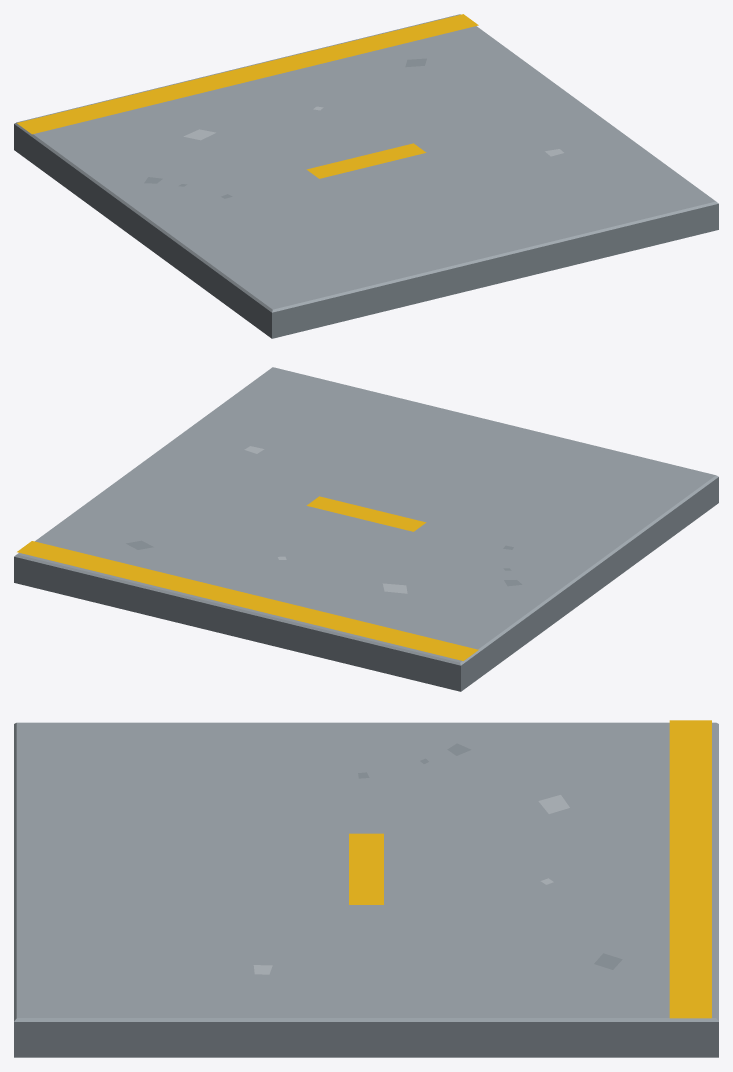
The model's file is boden_hallenboden_linie_b.glb.
3 renders of one model, top to bottom at view 1: azimuth 30°, elevation 25°; view 2: azimuth 150°, elevation 25°; view 3: azimuth 270°, elevation 25°, orthographic. The views are drawn at different scales.
Parts seen in each view (by area): view 1: boden_hallenboden_linie_b; view 2: boden_hallenboden_linie_b; view 3: boden_hallenboden_linie_b.
Part boxes in pixels (x1,y1,x2,y2): boden_hallenboden_linie_b: (14, 14, 718, 338); boden_hallenboden_linie_b: (14, 367, 718, 691); boden_hallenboden_linie_b: (14, 720, 718, 1057).
Size of the model in its own units: 1 by 0.0616 by 1.
